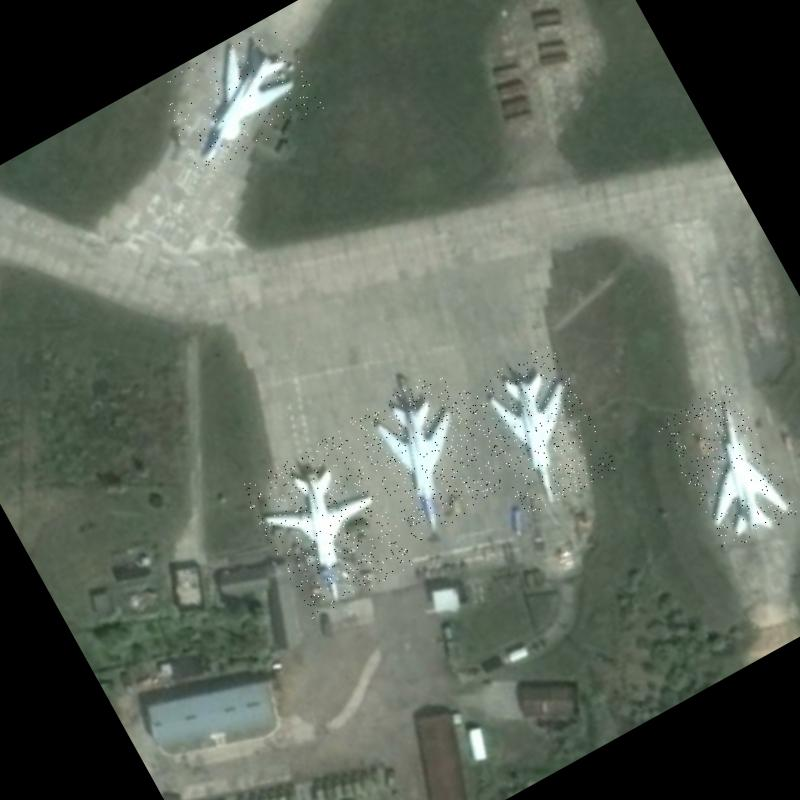A12: (238, 428, 418, 620), (456, 342, 620, 518), (150, 14, 324, 175), (347, 368, 507, 542), (653, 381, 800, 554)
